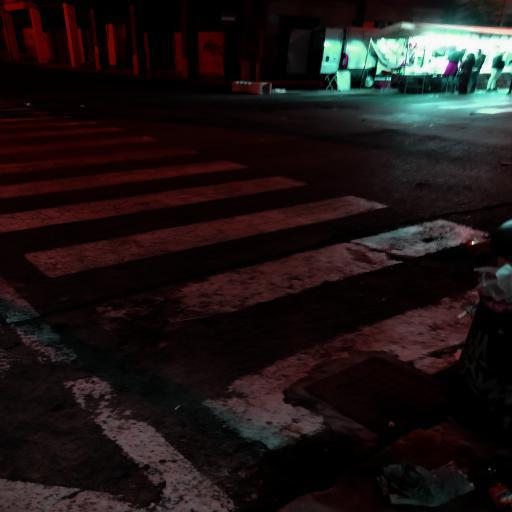crosswalk: (4, 172, 401, 282)
